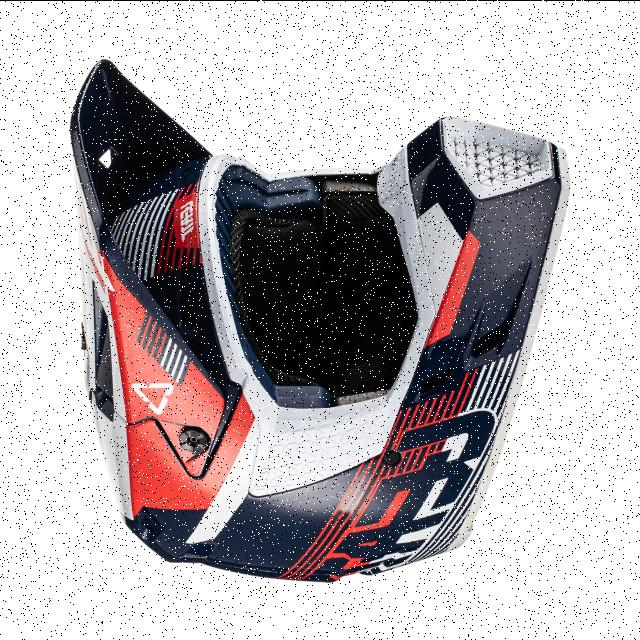Helmet: (24, 52, 558, 592)
